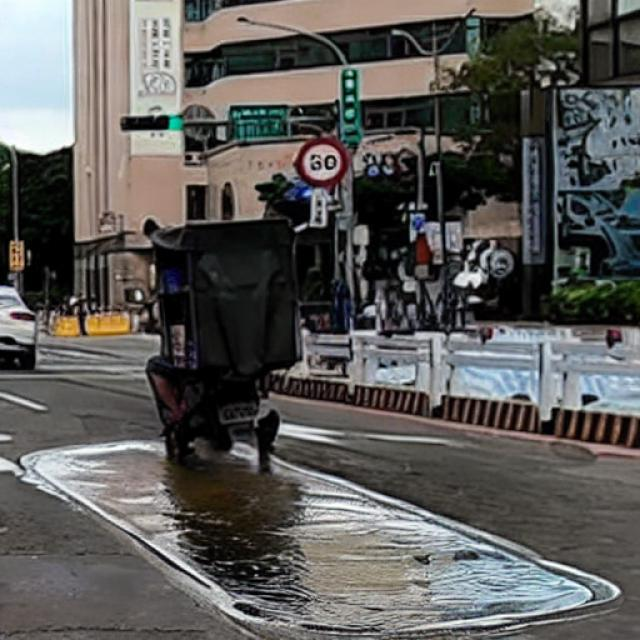puddle: (26, 436, 595, 640)
